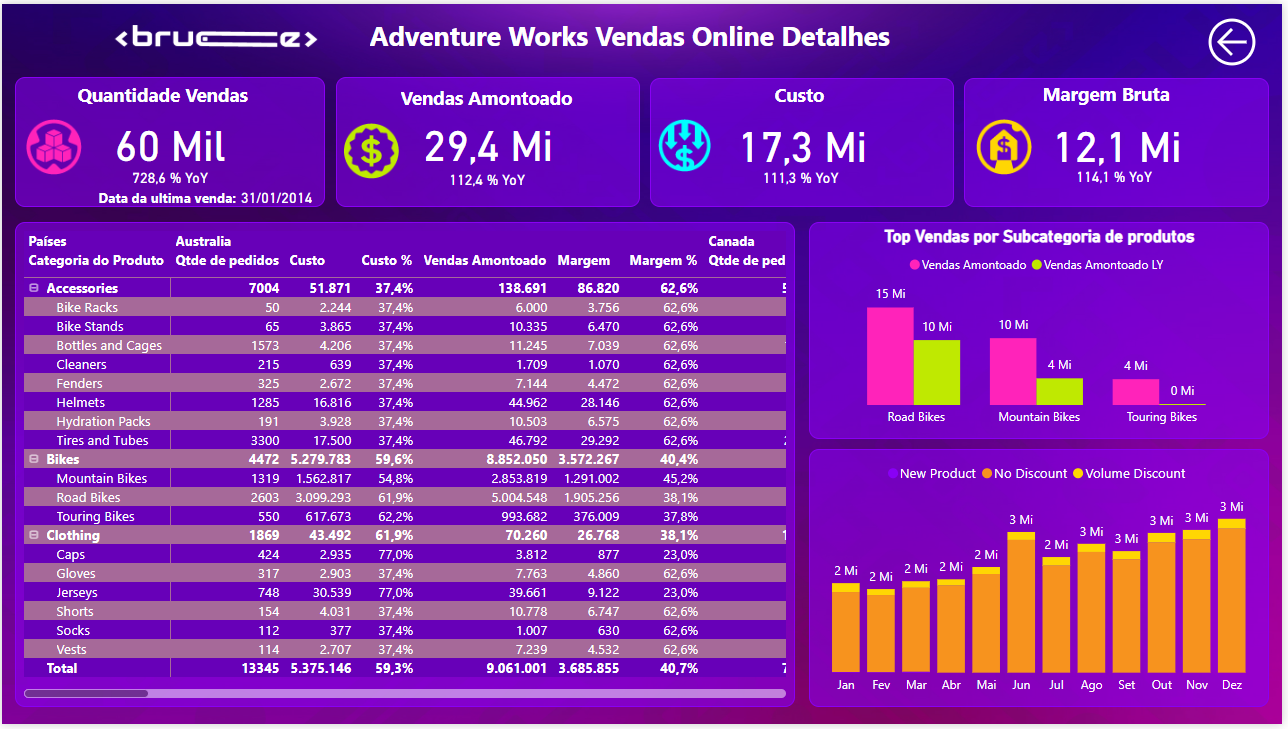

What the dashboard file says about the page in this screenshot:
{"tool":"powerbi","page":{"name":"Vendas Online detalhes","canvas":[1280,720],"ordinal":1},"visuals":[{"type":"clusteredColumnChart","title":"Top Vendas por Subcategoria de produtos","fields":{"Y":["#Medidas.Sales Amount","#Medidas.Sales Amount LY"],"Category":["DimProductSubcategory.EnglishProductSubcategoryName"]},"box":[807,218,460,217],"z":0},{"type":"columnChart","fields":{"Y":["#Medidas.Sales Amount"],"Category":["dim_calendario.Mes Abrev"],"Series":["DimPromotion.EnglishPromotionType"]},"box":[807,445,460,258],"z":1000},{"type":"textbox","box":[363.3,7.8,638.9,60],"z":2000},{"type":"pivotTable","fields":{"Rows":["DimProductCategory.EnglishProductCategoryName","DimProductSubcategory.EnglishProductSubcategoryName"],"Values":["#Medidas.Orders Date","#Medidas.Cost","#Medidas.Cost %","#Medidas.Sales Amount","#Medidas.Gross Margin","#Medidas.Gross Margin %"],"Columns":["DimGeography.EnglishCountryRegionName"]},"box":[13,218,780,485],"z":4000},{"type":"actionButton","box":[1200,8,60,60],"z":5000},{"type":"card","fields":{"Values":["#Medidas.Sales Amount"]},"box":[334.2,72.5,303.3,130],"z":6000},{"type":"card","fields":{"Values":["#Medidas.Gross Margin"]},"box":[962.3,73.8,304.6,129.2],"z":7000},{"type":"card","fields":{"Values":["#Medidas.Cost"]},"box":[647.6,73.6,304.4,129],"z":8000},{"type":"card","fields":{"Values":["#Medidas.Sales Quantity"]},"box":[13.3,72.5,310,130],"z":9000},{"type":"textbox","box":[394.5,76,238.9,48.9],"z":10000},{"type":"textbox","box":[1036.2,72.4,157.8,37.8],"z":11000},{"type":"textbox","box":[767.8,73.3,77.8,37.8],"z":12000},{"type":"textbox","box":[71.3,73.3,192.2,37.8],"z":13000},{"type":"image","box":[336.7,108.2,65.6,77.8],"z":14000},{"type":"image","box":[969.2,108.3,65.8,70],"z":15000},{"type":"image","box":[650,110,65.8,63.3],"z":16000},{"type":"image","box":[19.1,104.4,65.6,77.8],"z":17000},{"type":"card","fields":{"Values":["#Medidas.Sales Delta % txt"]},"box":[417.8,160.5,134.4,33.3],"z":18000},{"type":"card","fields":{"Values":["#Medidas.Gross Margin Delta % txt"]},"box":[1052.9,159.1,117.8,28.9],"z":19000},{"type":"card","fields":{"Values":["#Medidas.Cost Delta % txt"]},"box":[730,157.8,136.7,33.3],"z":20000},{"type":"card","fields":{"Values":["#Medidas.Sales Quantity Delta % txt"]},"box":[120.2,155.6,95.6,37.8],"z":21000},{"type":"textbox","box":[92.5,180.4,151.7,46.7],"z":22000},{"type":"card","fields":{"Values":["#Medidas.Sales Last Date"]},"box":[224.7,181.1,98.9,27.8],"z":23000}]}

Visuals, with their boxes in screenshot pixels (x1, y1, x2, y2), scaled from the page's 1280x720 canvas onto the 1288x729 screenshot:
"Top Vendas por Subcategoria de produtos" clusteredColumnChart: <region>812, 221, 1275, 440</region>
columnChart - #Medidas.Sales Amount x dim_calendario.Mes Abrev: <region>812, 451, 1275, 712</region>
textbox: <region>366, 8, 1008, 69</region>
pivotTable - DimProductCategory.EnglishProductCategoryName x DimProductSubcategory.EnglishProductSubcategoryName: <region>13, 221, 798, 712</region>
actionButton: <region>1208, 8, 1268, 69</region>
card - #Medidas.Sales Amount: <region>336, 73, 641, 205</region>
card - #Medidas.Gross Margin: <region>968, 75, 1275, 206</region>
card - #Medidas.Cost: <region>652, 75, 958, 205</region>
card - #Medidas.Sales Quantity: <region>13, 73, 325, 205</region>
textbox: <region>397, 77, 637, 126</region>
textbox: <region>1043, 73, 1201, 112</region>
textbox: <region>773, 74, 851, 112</region>
textbox: <region>72, 74, 265, 112</region>
image: <region>339, 110, 405, 188</region>
image: <region>975, 110, 1041, 181</region>
image: <region>654, 111, 720, 175</region>
image: <region>19, 106, 85, 184</region>
card - #Medidas.Sales Delta % txt: <region>420, 163, 556, 196</region>
card - #Medidas.Gross Margin Delta % txt: <region>1059, 161, 1178, 190</region>
card - #Medidas.Cost Delta % txt: <region>735, 160, 872, 193</region>
card - #Medidas.Sales Quantity Delta % txt: <region>121, 158, 217, 196</region>
textbox: <region>93, 183, 246, 230</region>
card - #Medidas.Sales Last Date: <region>226, 183, 326, 212</region>
